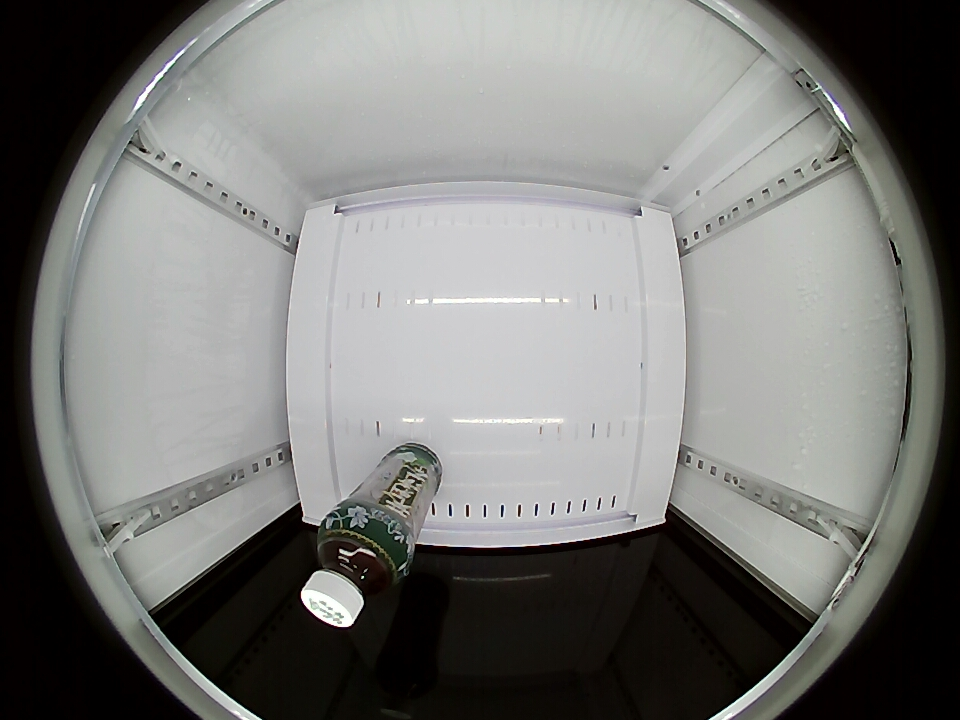moliqingcha: (302, 512, 410, 628)
